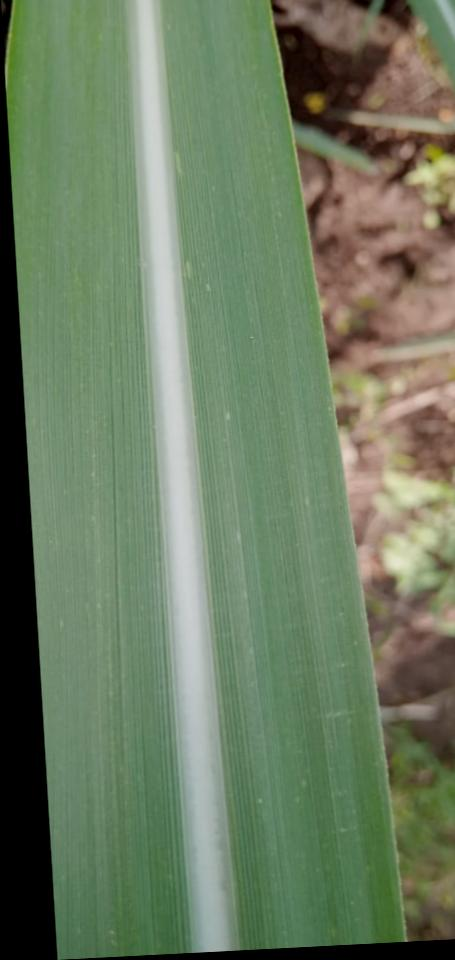Healthy: (162, 0, 407, 950), (5, 0, 190, 959)
